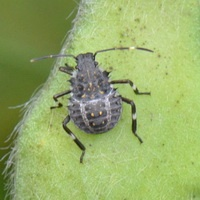insect: (31, 46, 153, 162)
